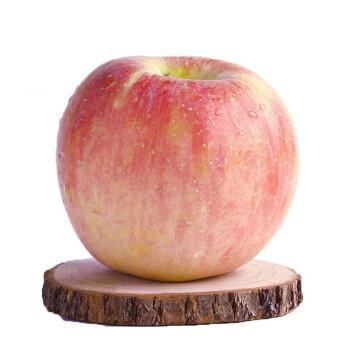apple: (53, 52, 297, 282)
